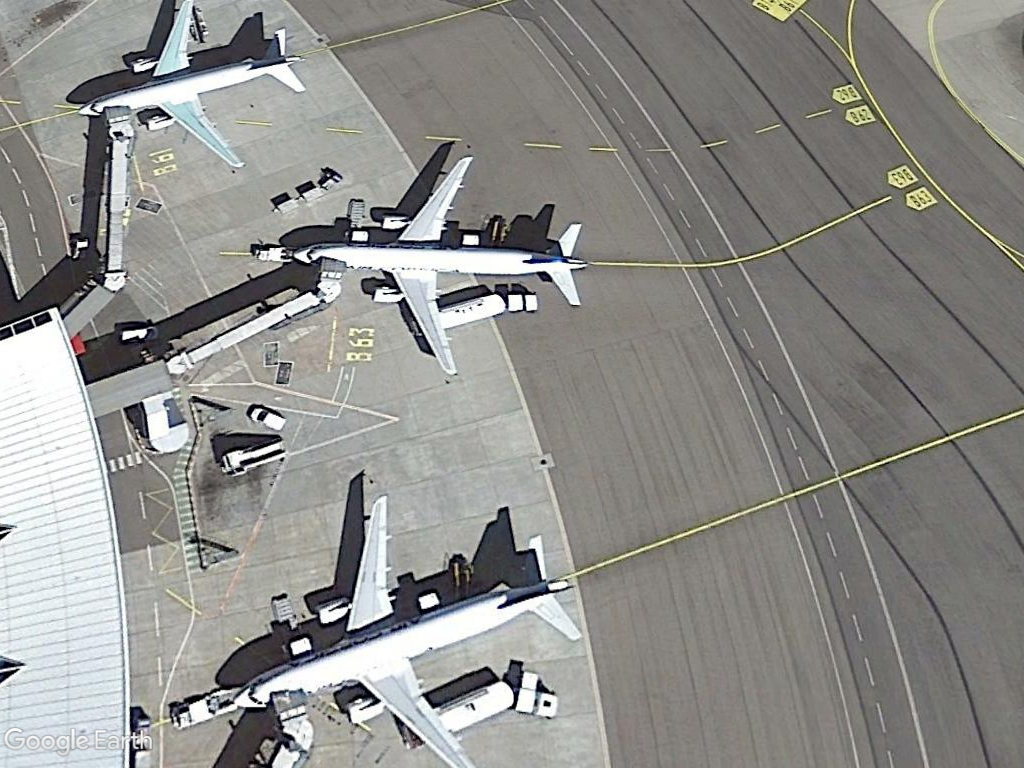airliner: (229, 486, 592, 768), (296, 144, 591, 380)
pushbacktruck: (248, 239, 300, 268)
